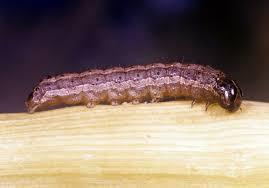fallarmy_worm: (18, 61, 249, 121)
